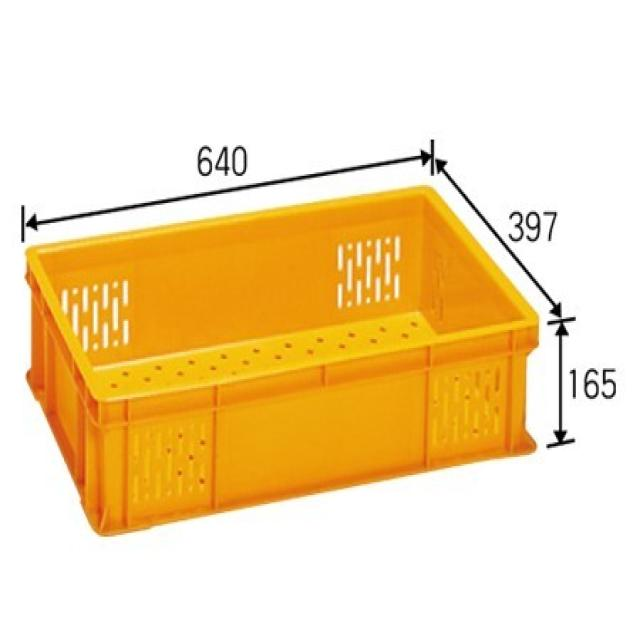basket: (2, 155, 564, 545)
